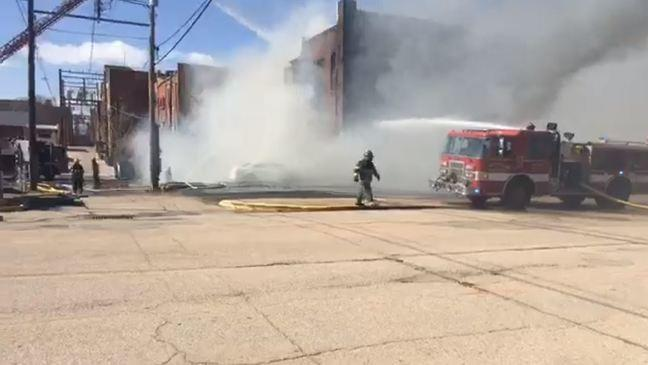smoke: (413, 16, 638, 114), (175, 93, 313, 183)
